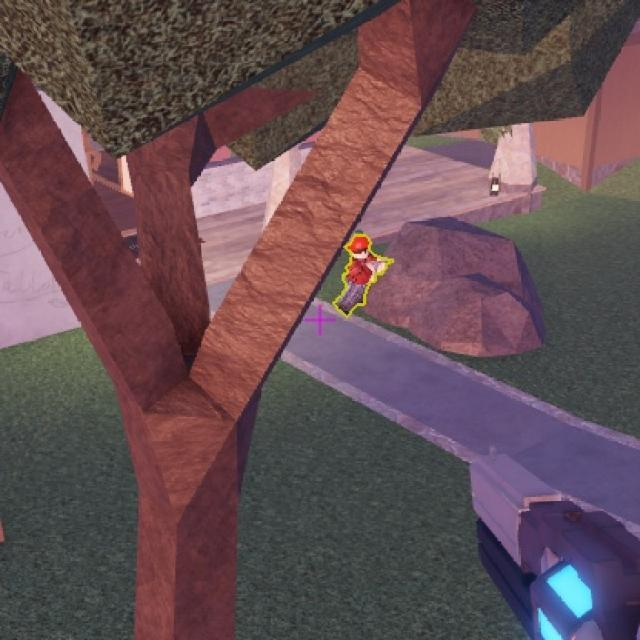player: (346, 234, 372, 314)
